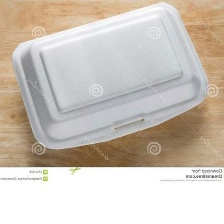foam_box: (6, 0, 214, 152)
